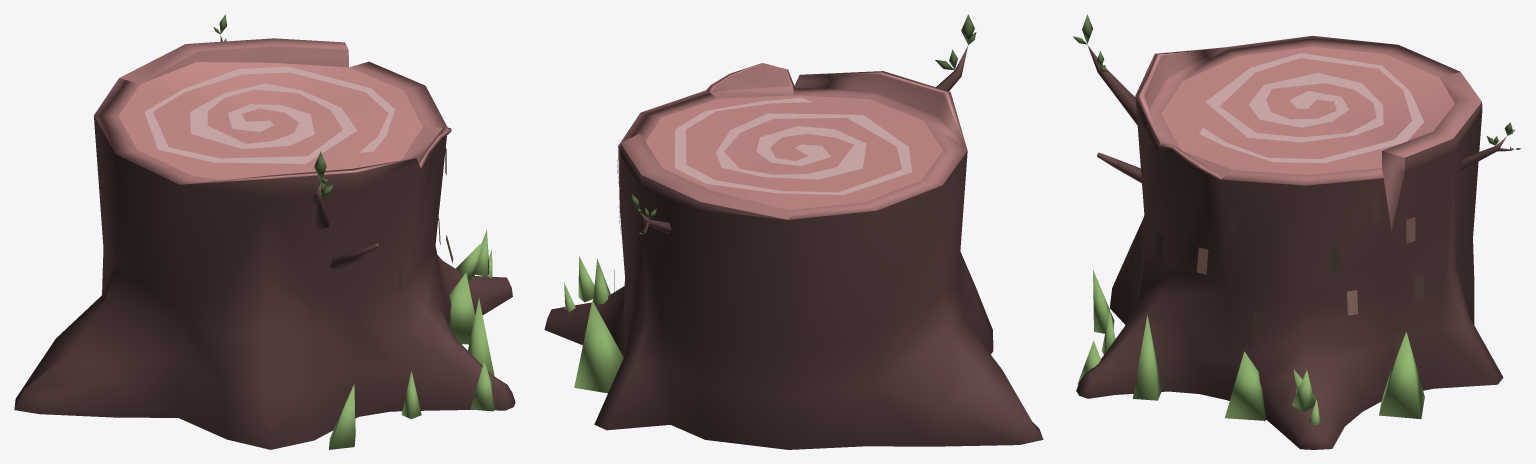
File: Stump.fbx
3 renders of one model, left to right at view 1: azimuth 30°, elevation 25°; view 2: azimuth 150°, elevation 25°; view 3: azimuth 270°, elevation 25°, orthographic. The views are drawn at different scales.
Visible parts, largest first — view 1: Stump_Oak; view 2: Stump_Oak; view 3: Stump_Oak.
Part boxes in pixels (<box>): Stump_Oak: <box>14,14,515,449</box>; Stump_Oak: <box>544,14,1043,449</box>; Stump_Oak: <box>1073,14,1520,449</box>.
Bounding box in the file's own units: 135 × 80.4 × 109.
